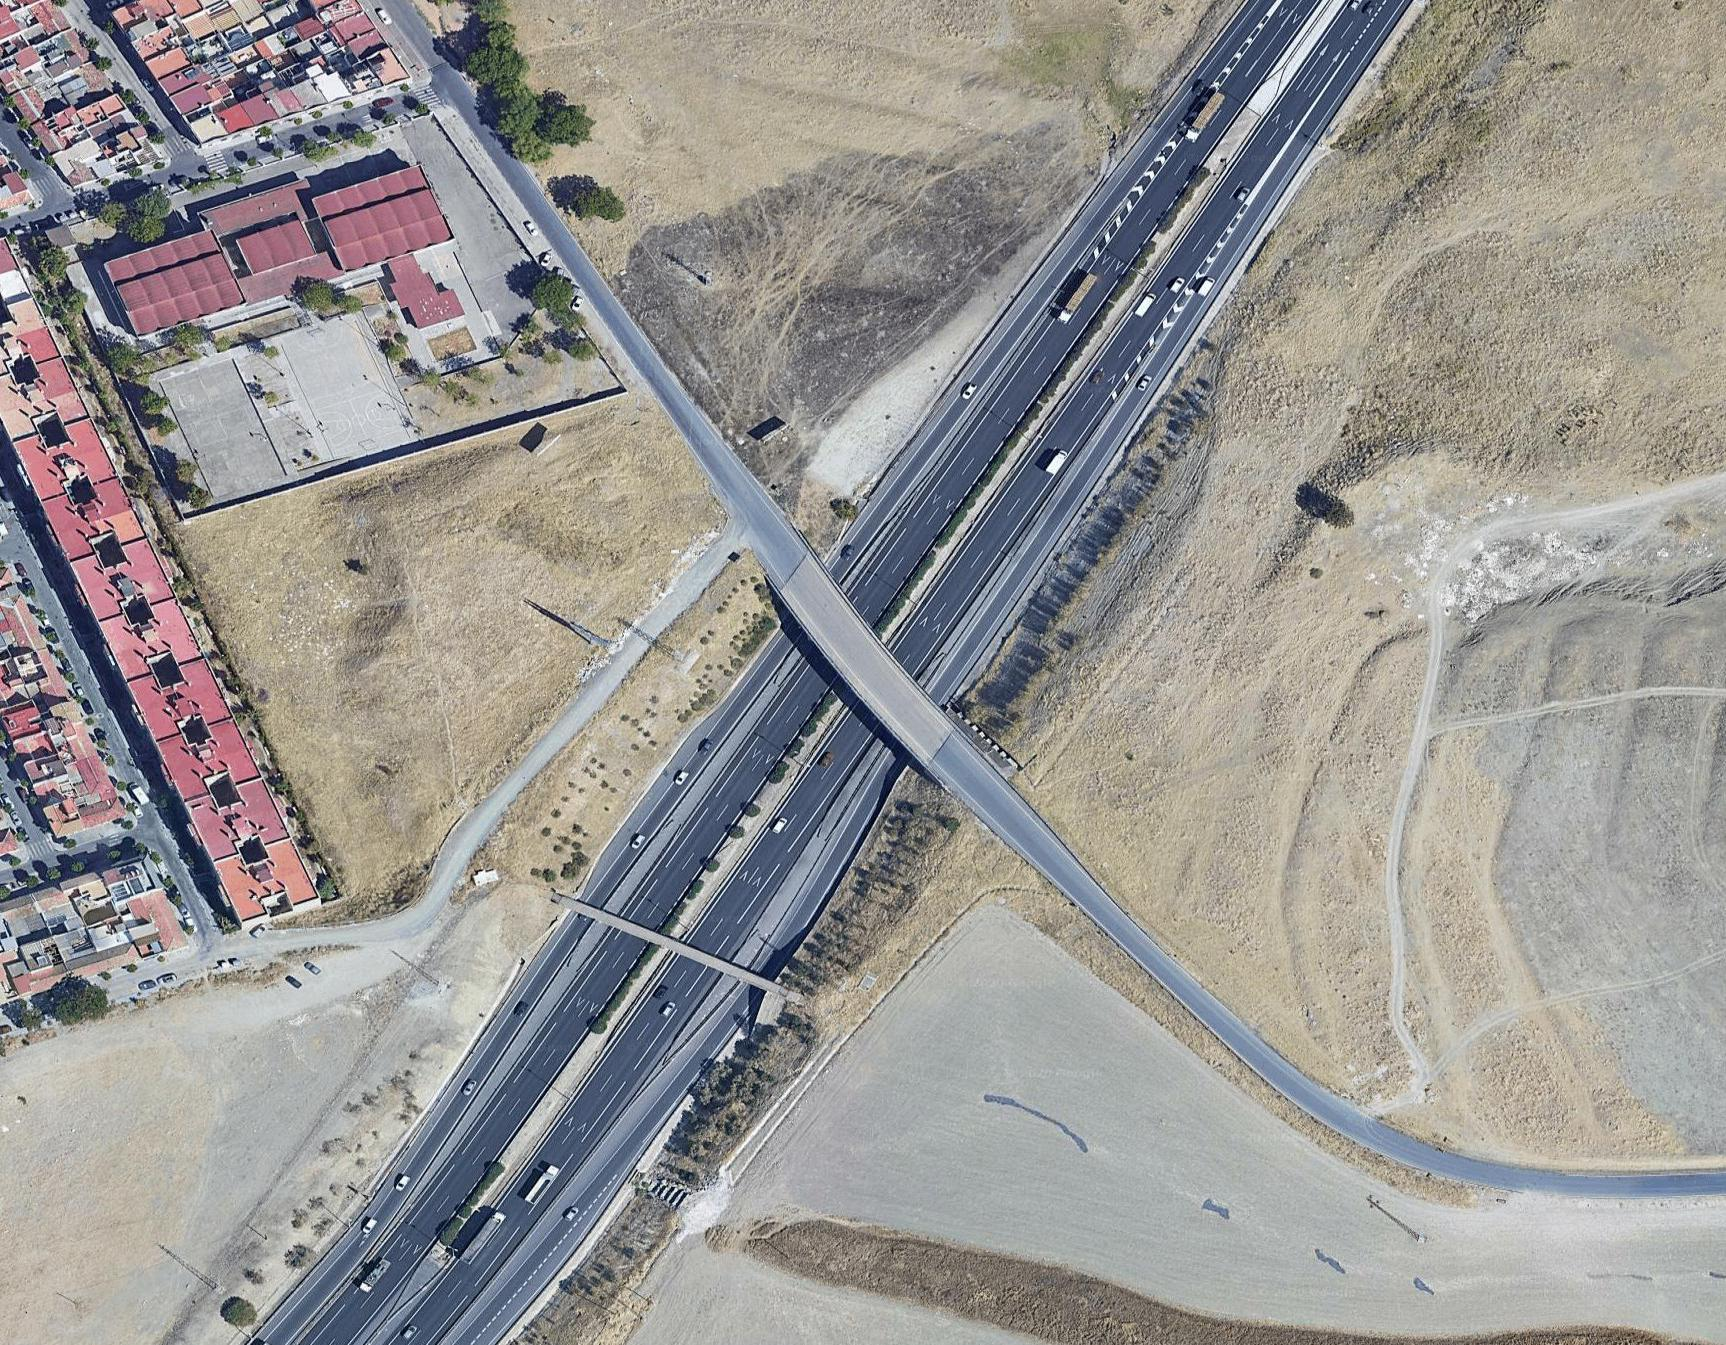bridge: (738, 560, 995, 769)
large-vehicle: (1058, 266, 1096, 326), (1184, 83, 1222, 142)
small-vehicle: (771, 813, 785, 831)
